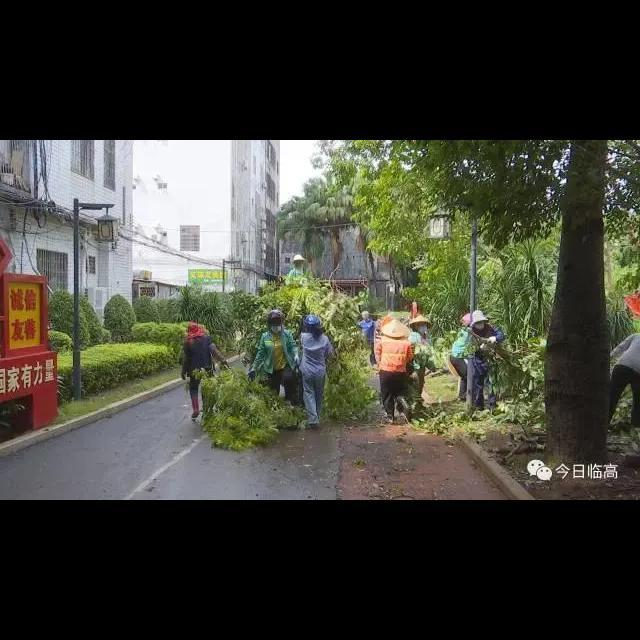fallen_tree: (193, 279, 375, 443)
